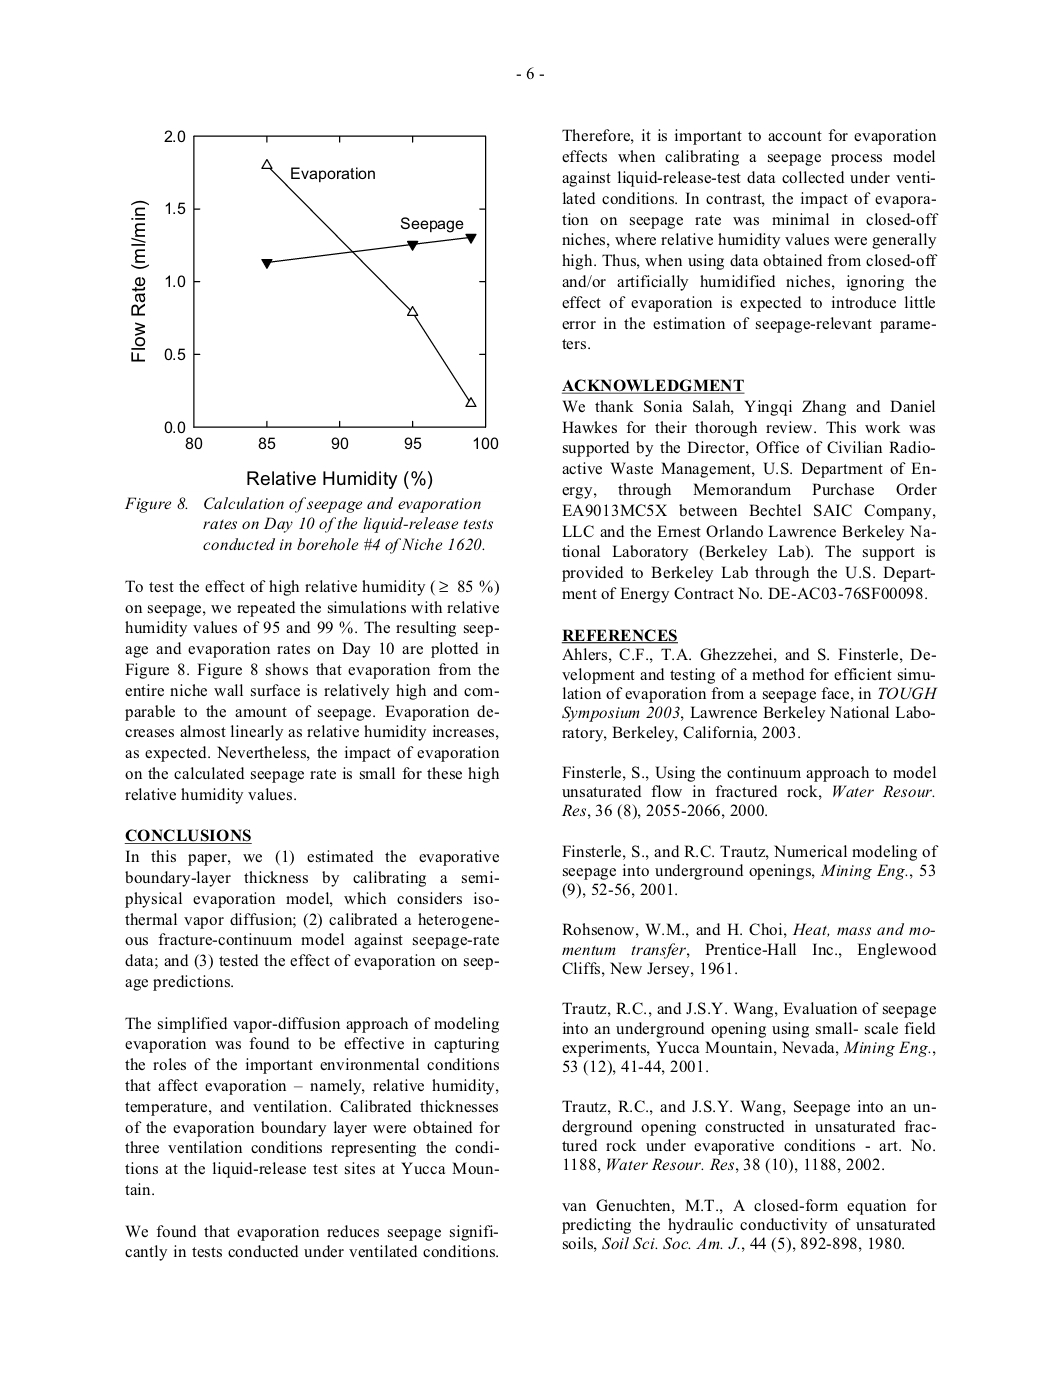figure: (132, 129, 498, 450)
